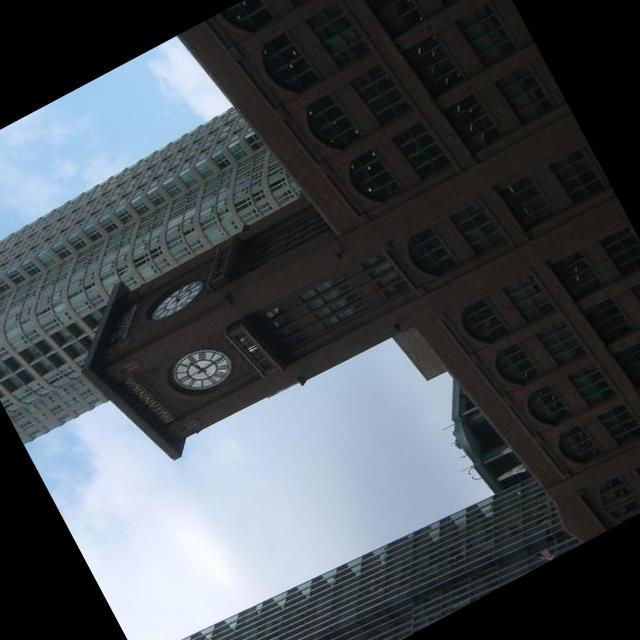clock: (168, 336, 237, 398), (144, 274, 210, 322)
